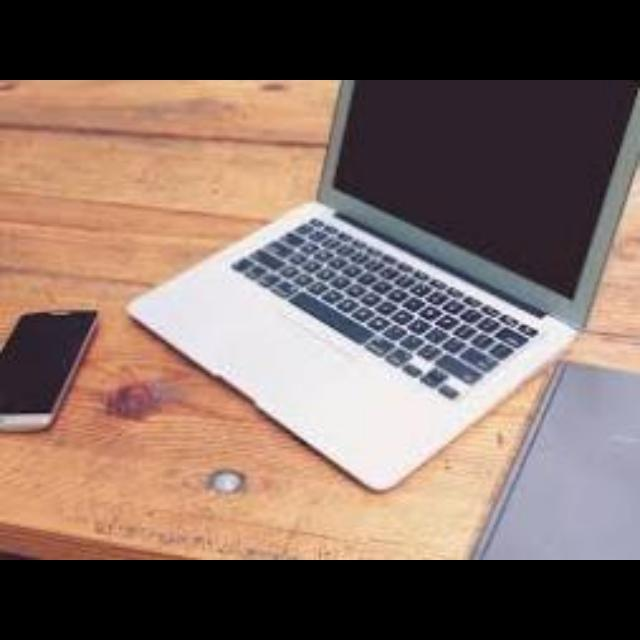Phone: (0, 304, 101, 428)
